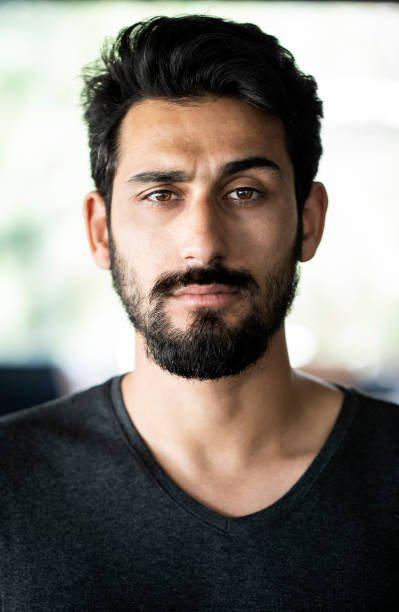Sober: (124, 119, 292, 345)
